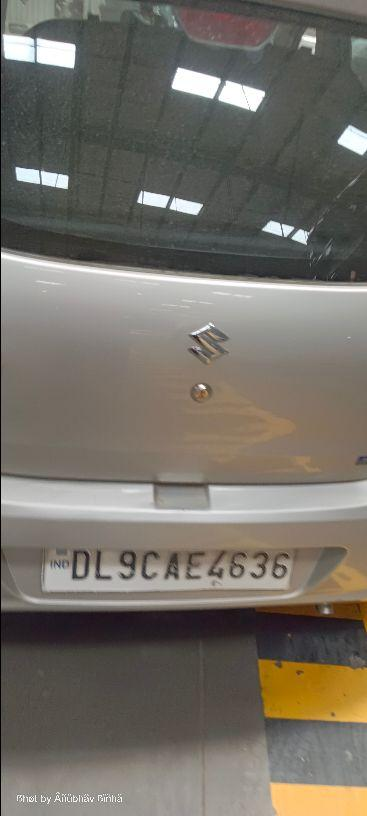license_plate: (39, 545, 297, 594)
